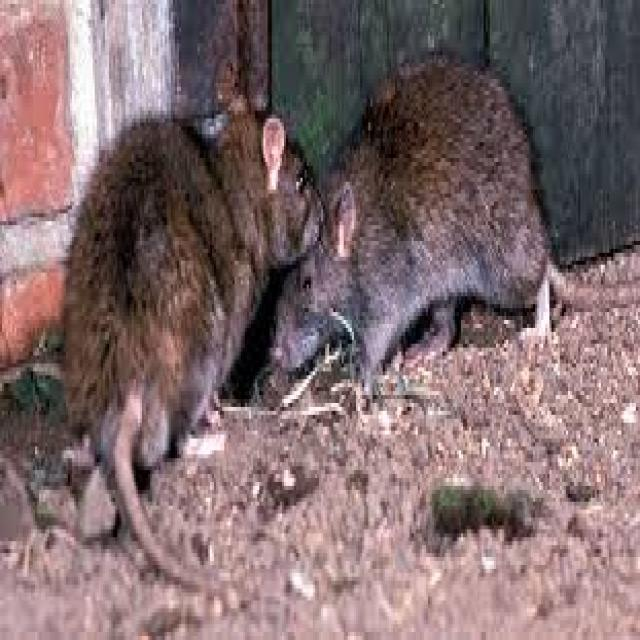Rat: (51, 49, 566, 488), (66, 66, 327, 487)
